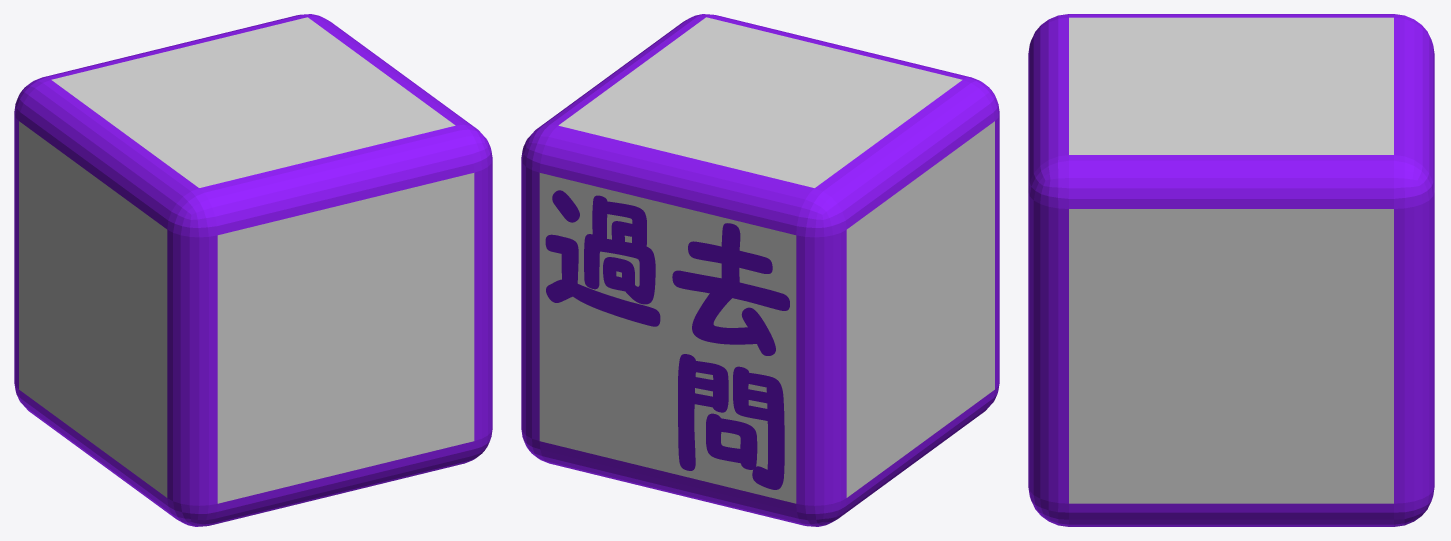
The model's file is pastexam.fbx.
3 renders of one model, left to right at view 1: azimuth 30°, elevation 25°; view 2: azimuth 150°, elevation 25°; view 3: azimuth 270°, elevation 25°, orthographic. The views are drawn at different scales.
Parts seen in each view (by area): view 1: Cube; view 2: Cube, テキスト; view 3: Cube.
Part boxes in pixels (x1=…): Cube: x1=14, y1=14, x2=492, y2=526; Cube: x1=521, y1=14, x2=999, y2=526; テキスト: x1=545, y1=190, x2=789, y2=489; Cube: x1=1028, y1=14, x2=1434, y2=526.
Bounding box in the file's own units: 200 × 200 × 201.
